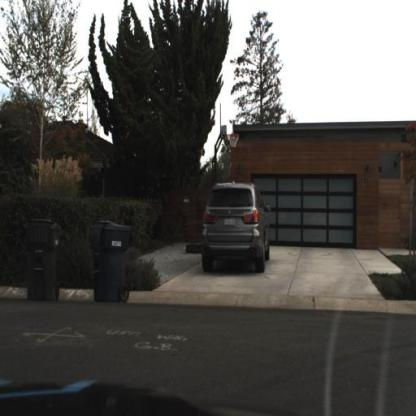car: (199, 179, 275, 276)
